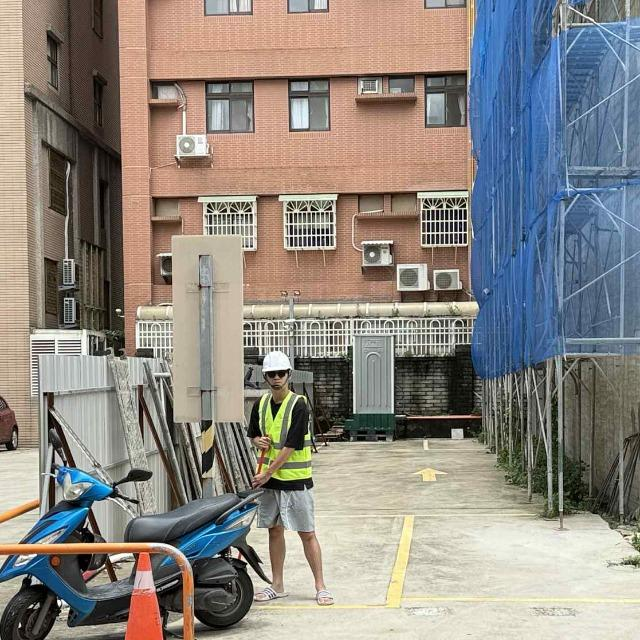Vest: (248, 391, 315, 487)
